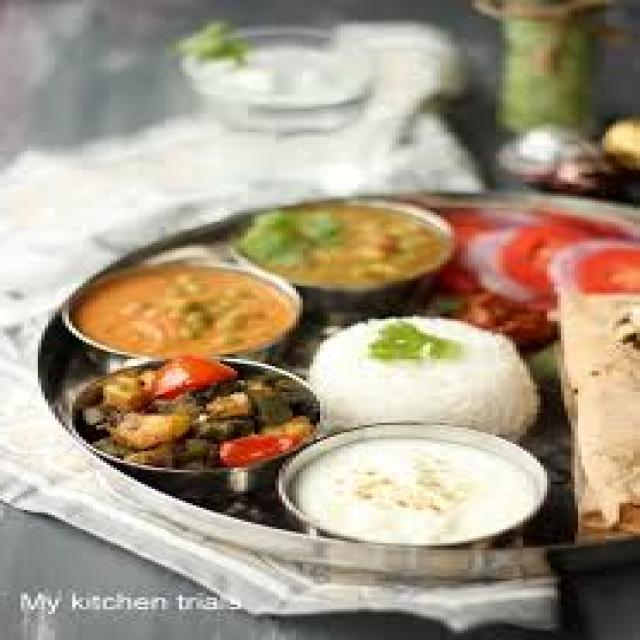curd: (295, 302, 536, 436)
dal: (242, 200, 442, 292)
rice: (280, 431, 553, 548), (181, 33, 395, 117)
veg-fry: (44, 252, 305, 371), (231, 200, 446, 290)
